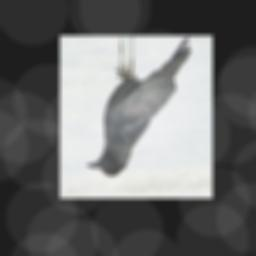Crow: (85, 36, 192, 177)
